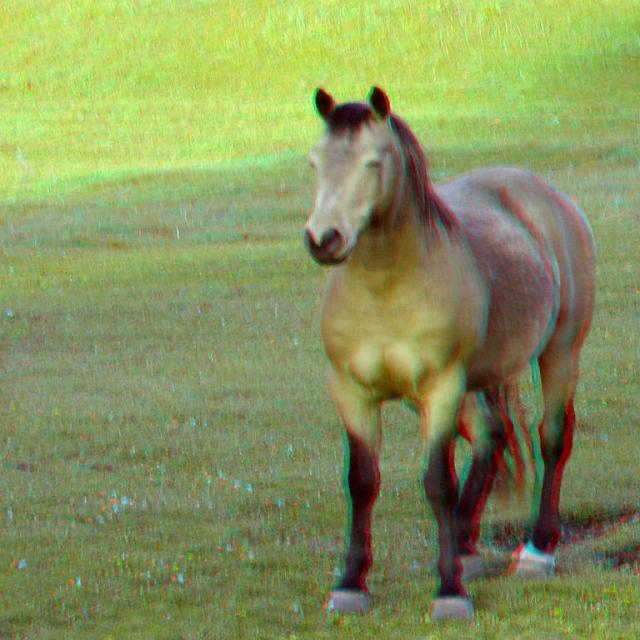Horse: (302, 88, 598, 622)
